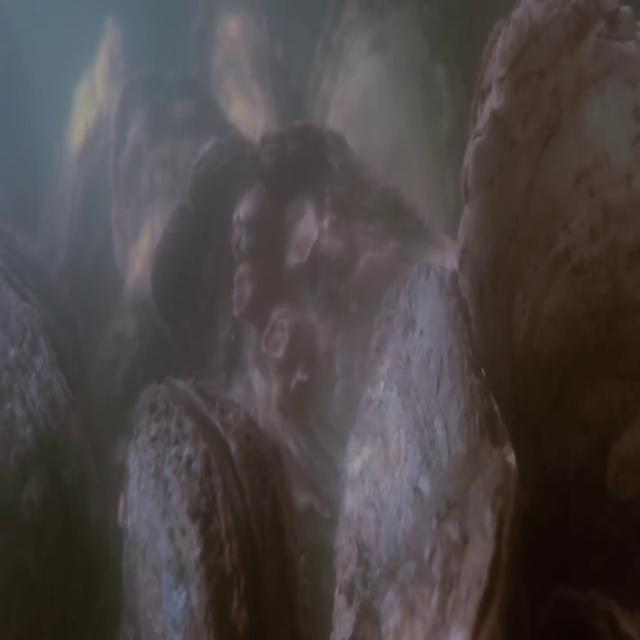Oyster-Closed: (449, 0, 640, 479), (328, 254, 515, 638), (118, 375, 304, 639), (3, 224, 104, 536)
Oyster-Indeterminate: (151, 114, 456, 521), (306, 1, 461, 231), (105, 66, 248, 296), (192, 4, 288, 130)
